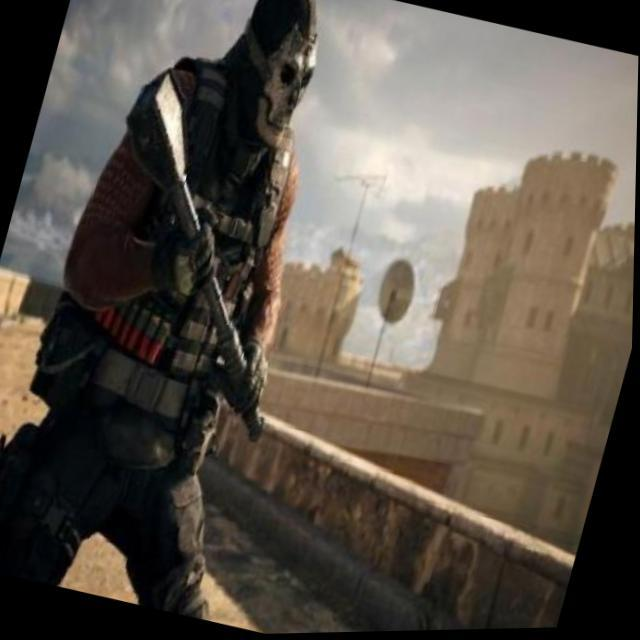weapon: (0, 0, 391, 629), (48, 59, 352, 448)
